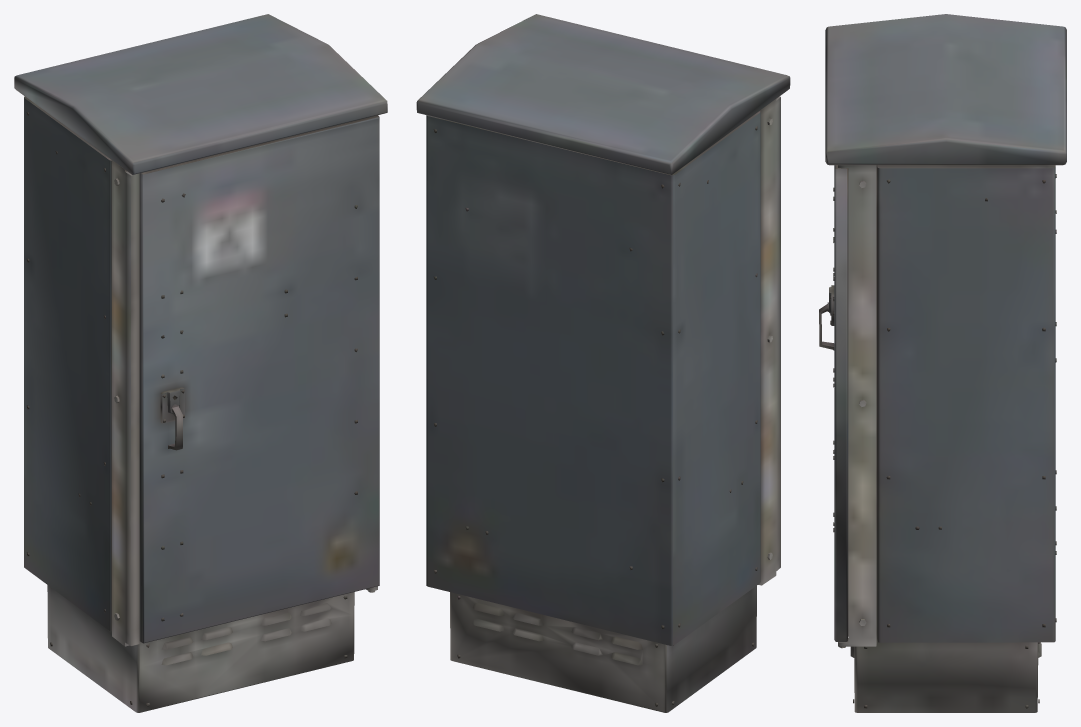
File: utilitybox.glb
3 views of the same model, side by side, from view 1: azimuth 30°, elevation 25°; view 2: azimuth 150°, elevation 25°; view 3: azimuth 270°, elevation 25° (orthographic).
Visible parts, largest first — view 1: utility_box_01_box; view 2: utility_box_01_box; view 3: utility_box_01_box.
Boxes of the visible parts, x1=… form: utility_box_01_box: x1=14, y1=14, x2=387, y2=712; utility_box_01_box: x1=416, y1=14, x2=790, y2=712; utility_box_01_box: x1=819, y1=14, x2=1066, y2=712.
Size of the model in its own units: 0.52 by 1.12 by 0.4311.
1 material, 1 textured.
